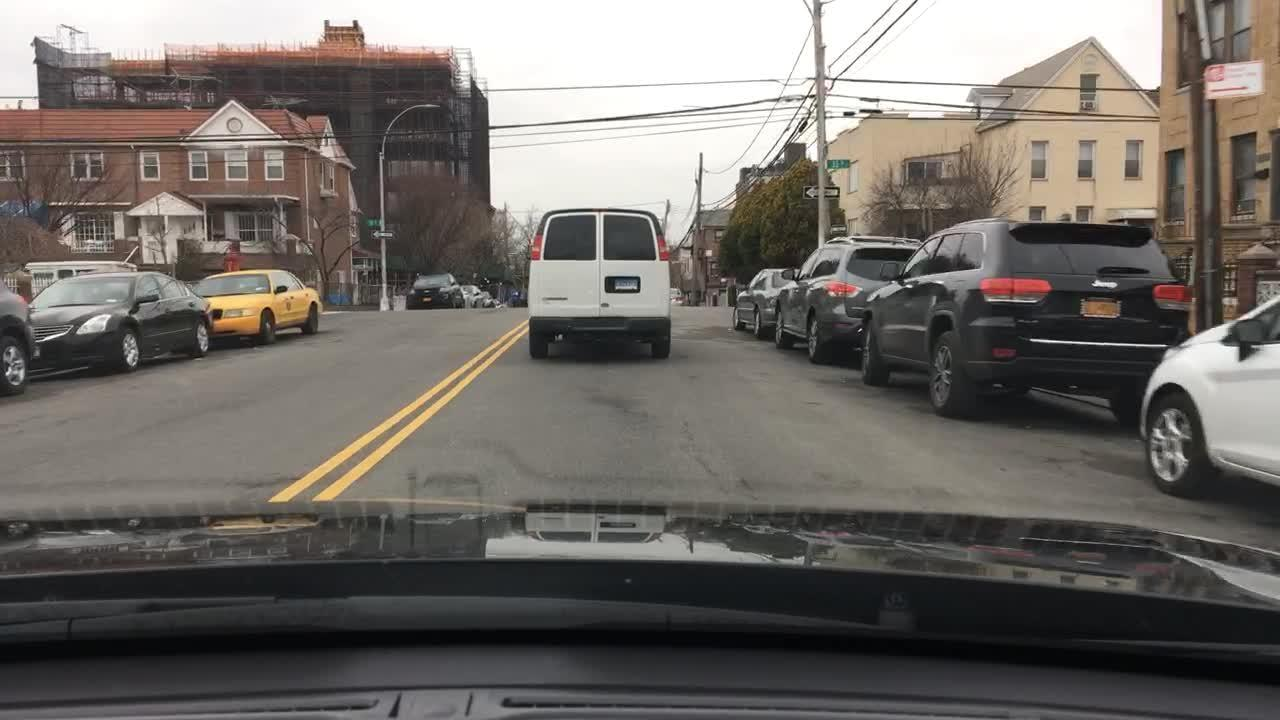jeep: (1081, 270, 1127, 293)
